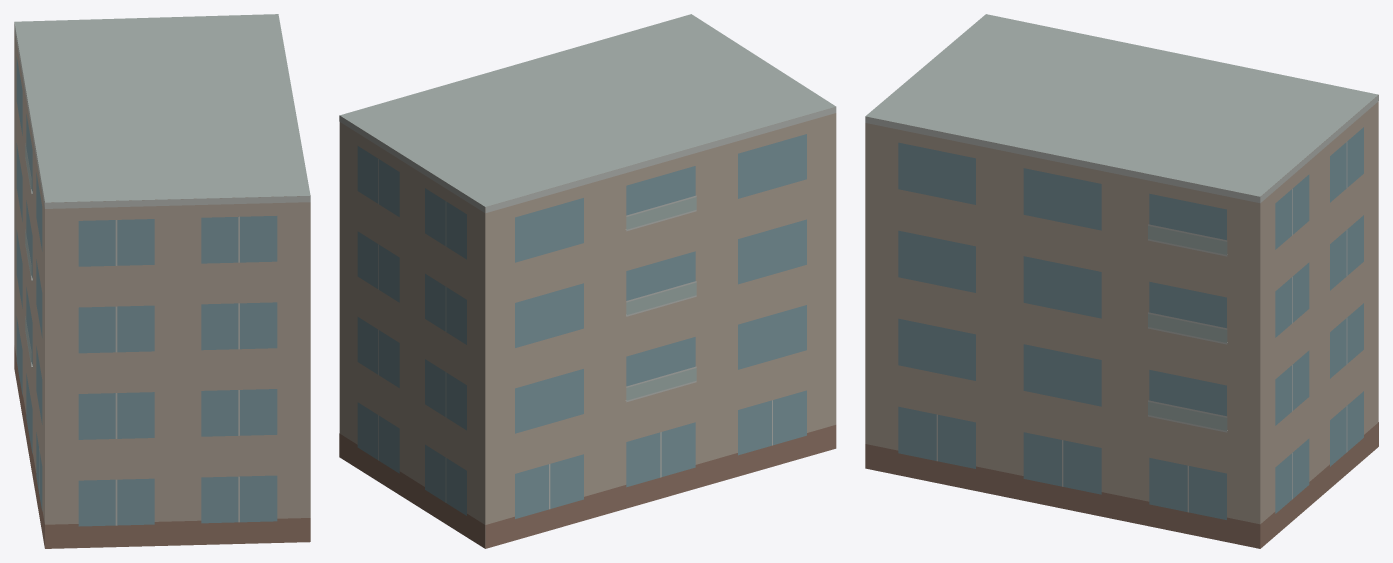
The model's file is survey-upis-33008471.glb.
3 views of the same model, side by side, from view 1: azimuth 30°, elevation 25°; view 2: azimuth 150°, elevation 25°; view 3: azimuth 270°, elevation 25° (orthographic). The views are drawn at different scales.
Parts seen in each view (by area): view 1: survey-upis-33008471.tmp; view 2: survey-upis-33008471.tmp; view 3: survey-upis-33008471.tmp.
Part boxes in pixels (x1,y1,x2,y2): survey-upis-33008471.tmp: (14,14,310,548); survey-upis-33008471.tmp: (339,14,836,548); survey-upis-33008471.tmp: (865,14,1378,548).
Size of the model in its own units: 14.7 by 13.2 by 17.45.
